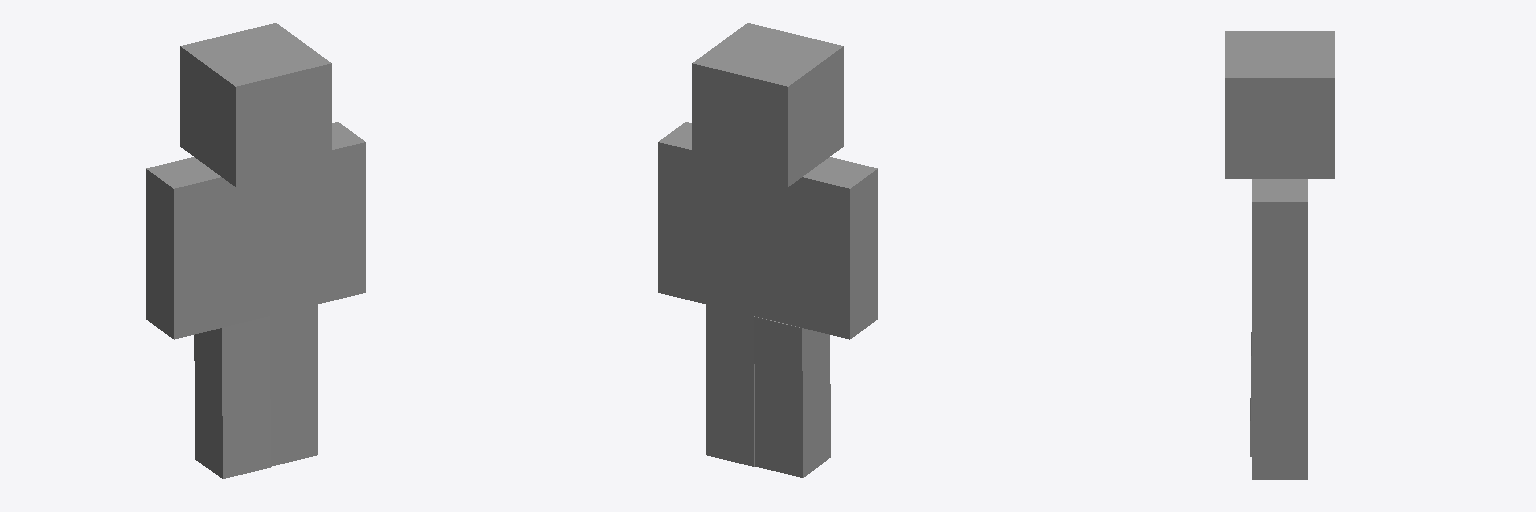
File: player_000002.obj
The picture shows the model from 3 angles: view 1: azimuth 30°, elevation 25°; view 2: azimuth 150°, elevation 25°; view 3: azimuth 270°, elevation 25°; orthographic projection.
Visible parts, largest first — view 1: Character_Cube.001; view 2: Character_Cube.001; view 3: Character_Cube.001.
Part boxes in pixels (x1,y1,x2,y2): Character_Cube.001: (146, 23, 365, 478); Character_Cube.001: (658, 23, 877, 477); Character_Cube.001: (1225, 31, 1334, 479).
Size of the model in its own units: 0.9926 by 1.99 by 0.4963.